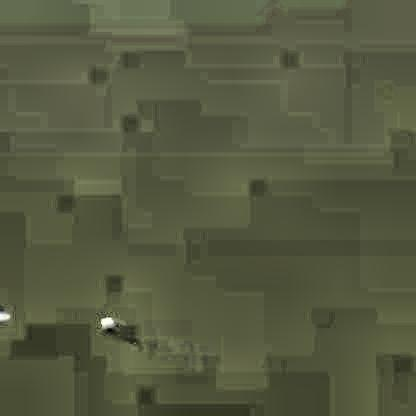golfball: (98, 313, 112, 328)
